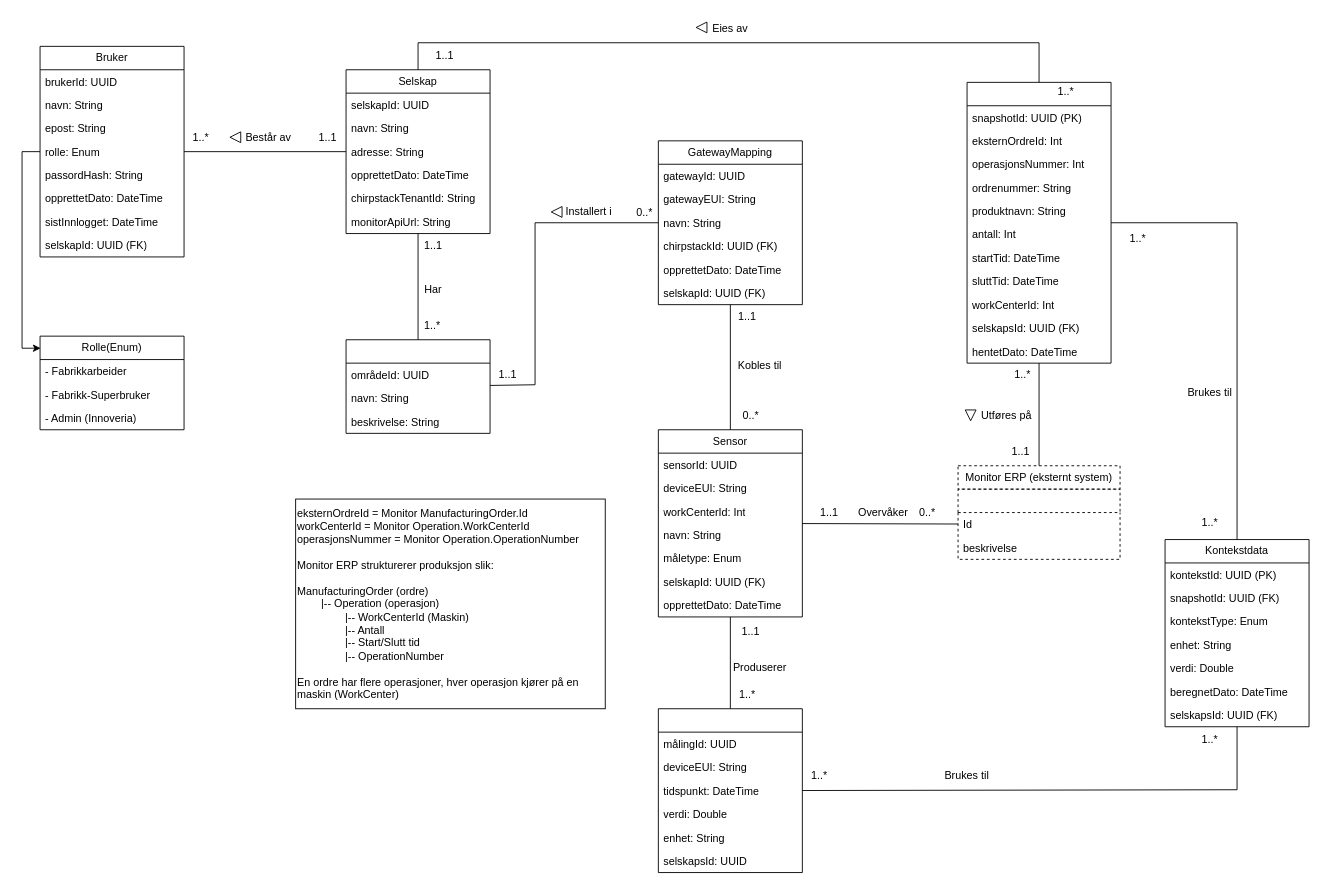
This 1325x890 diagram has some shape labels left out. The shapes that lost their labels are listed below. From the top down, each one's box as (x1, y1, x2, y2) in pixels, then its label:
(966, 81, 1111, 363): OperasjonsSnapshot
(345, 339, 490, 433): Fabrikkområde
(957, 488, 1120, 559): WorkCenter (Maskin)
(657, 708, 802, 873): Sensormåling (tidsserie DB)
